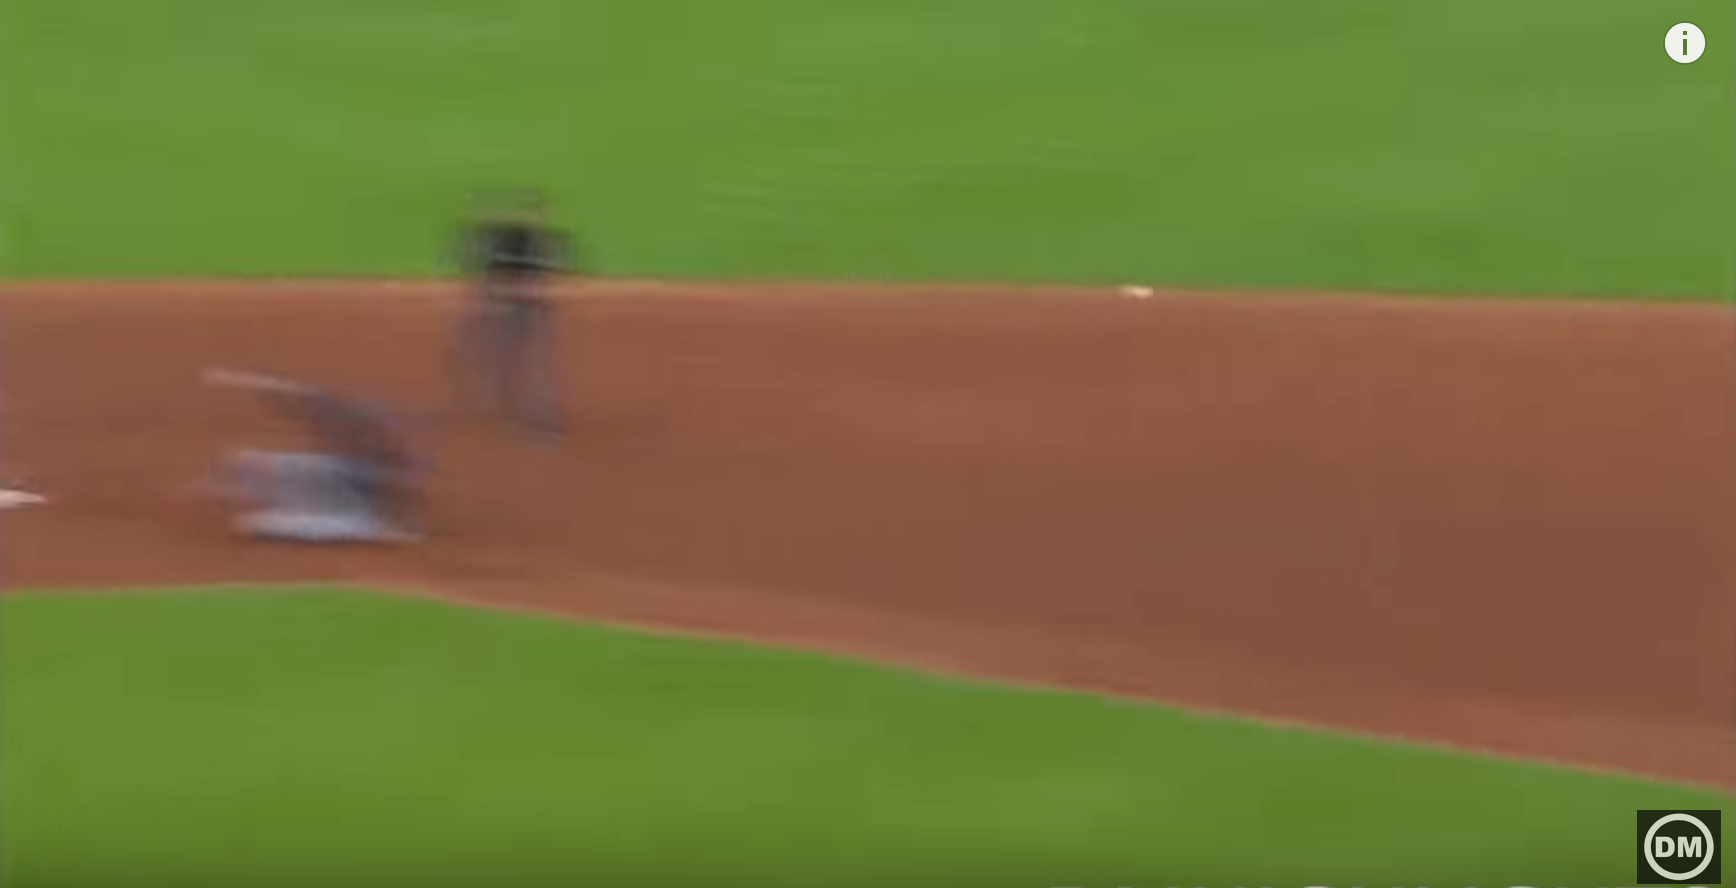ball: (1123, 282, 1162, 305)
